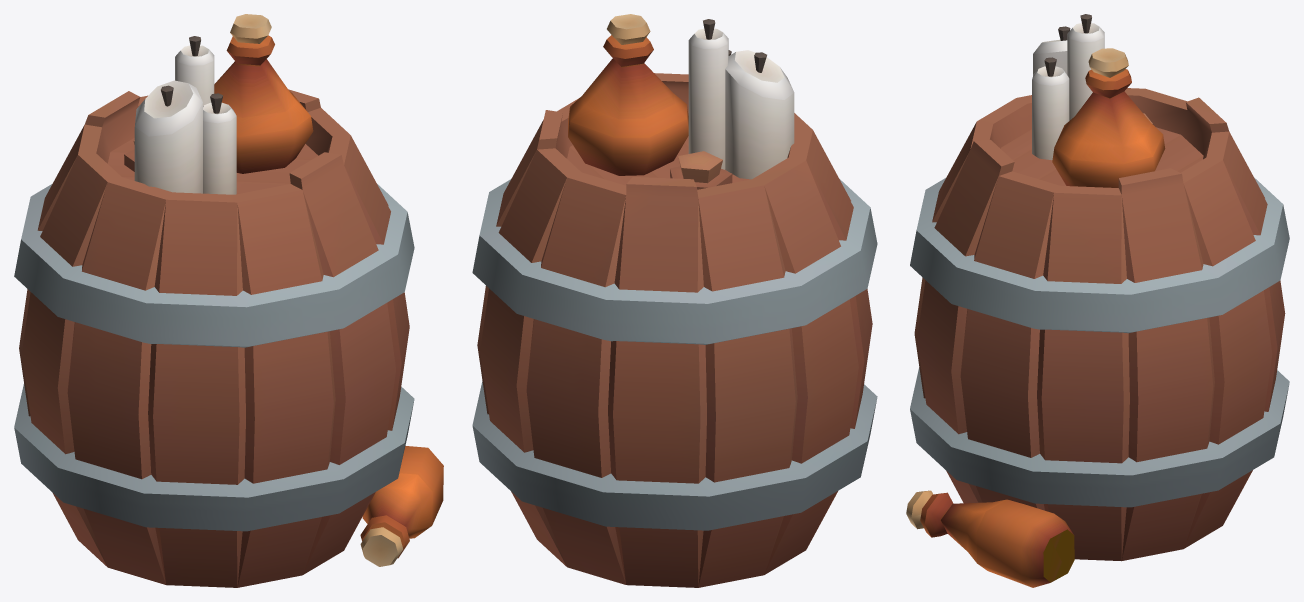
The model's file is barrel_large_decorated.glb.
3 views of the same model, side by side, from view 1: azimuth 30°, elevation 25°; view 2: azimuth 150°, elevation 25°; view 3: azimuth 270°, elevation 25° (orthographic). The views are drawn at different scales.
Parts seen in each view (by area): view 1: barrel_large_decorated; view 2: barrel_large_decorated; view 3: barrel_large_decorated.
Part boxes in pixels (x1,y1,x2,y2): barrel_large_decorated: (14,14,443,587); barrel_large_decorated: (472,14,877,587); barrel_large_decorated: (906,14,1289,587).
Size of the model in its own units: 1.94 by 2.56 by 1.86.
1 material, 1 textured.
